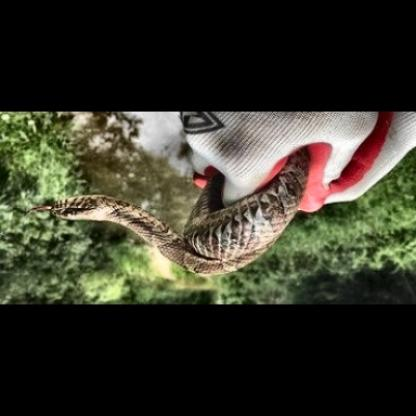Snake: (46, 161, 311, 278)
